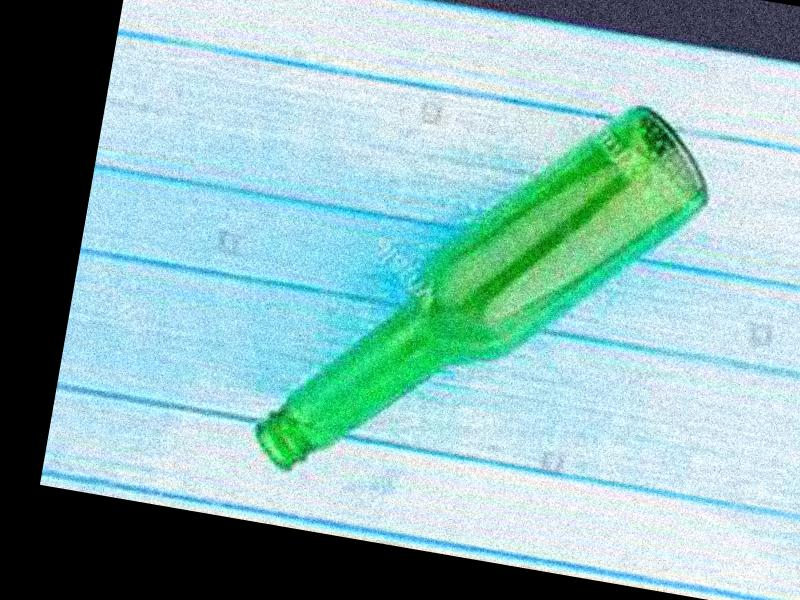Beer: (245, 43, 726, 536)
